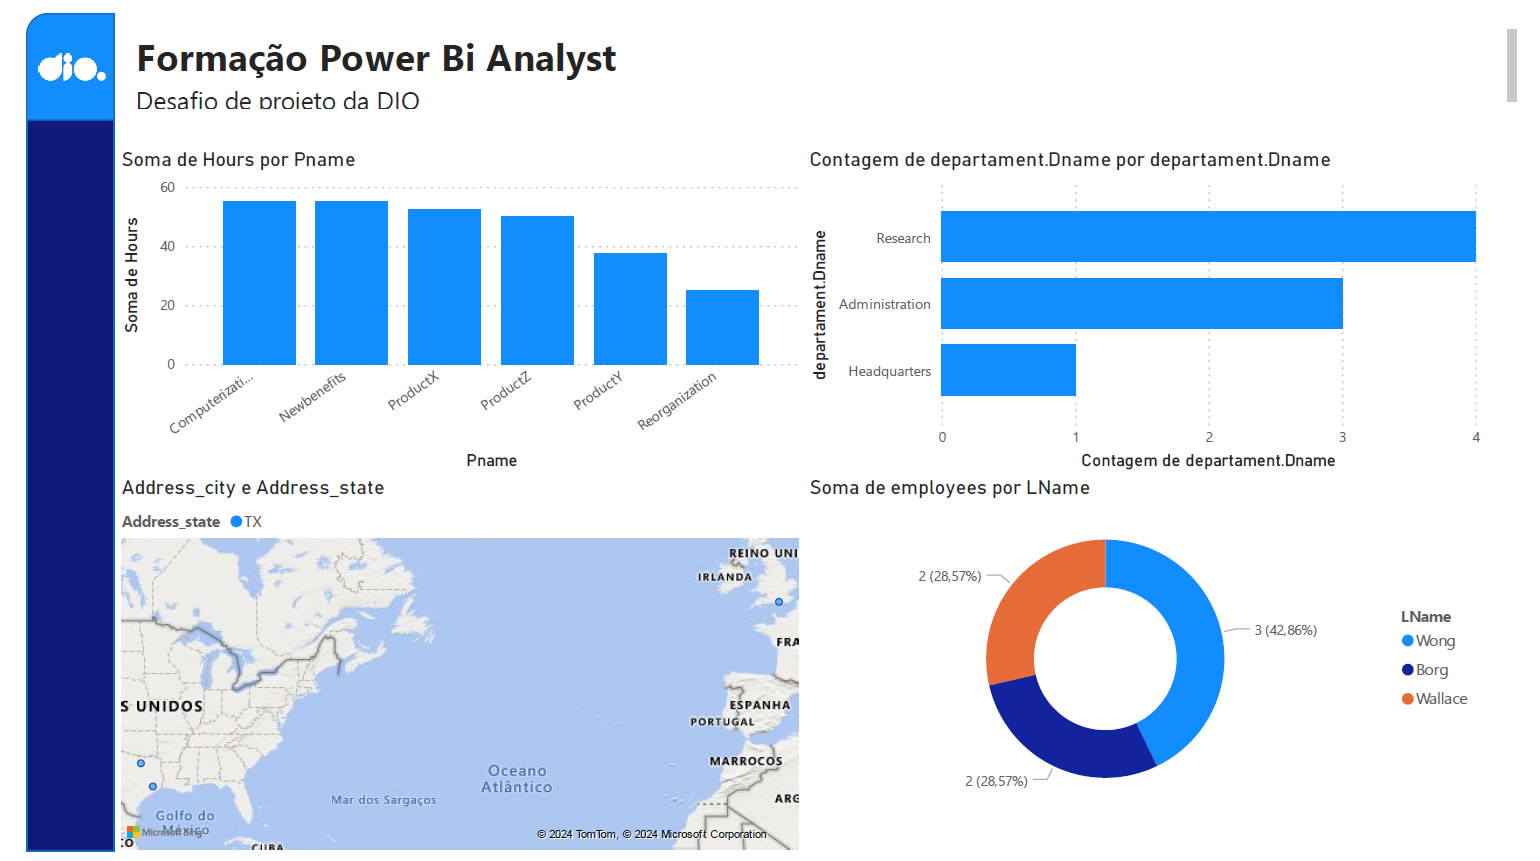

What the dashboard file says about the page in this screenshot:
{"tool":"powerbi","page":{"name":"Página 1","canvas":[1280,720],"ordinal":0},"visuals":[{"type":"shape","box":[76.6,0,1204.3,91.5],"z":0},{"type":"columnChart","fields":{"Category":["project_hours.Pname"],"Y":["Sum(project_hours.Hours)"]},"box":[76.6,114.9,589.4,280.9],"z":0},{"type":"textbox","box":[89.4,8.5,1191.5,78.7],"z":1000},{"type":"donutChart","fields":{"Category":["employee_per_manager.LName"],"Y":["Sum(employee_per_manager.employees)"]},"box":[666,395.7,583,295.7],"z":1000},{"type":"clusteredBarChart","fields":{"Y":["CountNonNull(employee_department_combined.departament.Dname)"],"Category":["employee_department_combined.departament.Dname"]},"box":[666,114.9,583,280.9],"z":2000},{"type":"map","fields":{"Category":["employee.Address_city"],"Series":["employee.Address_state"]},"box":[76.6,395.7,589.4,325.5],"z":3000},{"type":"shape","box":[0,62.7,76.5,654.9],"z":3001},{"type":"shape","box":[0,0,76.5,92.2],"z":3002},{"type":"image","box":[6.4,14.3,66.8,65.2],"z":3003}]}

Visuals, with their boxes in screenshot pixels (x1, y1, x2, y2), scaled from the page's 1280x720 canvas onto the 1540x861 screenshot:
shape: l=92, t=0, r=1539, b=109
columnChart - project_hours.Pname x Sum(project_hours.Hours): l=92, t=137, r=801, b=473
textbox: l=108, t=10, r=1539, b=104
donutChart - employee_per_manager.LName x Sum(employee_per_manager.employees): l=801, t=473, r=1503, b=827
clusteredBarChart - CountNonNull(employee_department_combined.departament.Dname) x employee_department_combined.departament.Dname: l=801, t=137, r=1503, b=473
map - employee.Address_city x employee.Address_state: l=92, t=473, r=801, b=860
shape: l=0, t=75, r=92, b=858
shape: l=0, t=0, r=92, b=110
image: l=8, t=17, r=88, b=95
